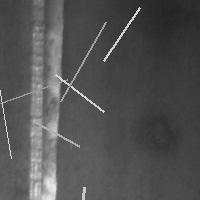scratches: (25, 1, 68, 198), (56, 17, 111, 106), (0, 75, 72, 116), (98, 3, 144, 66), (51, 70, 109, 117), (30, 117, 84, 151), (0, 63, 16, 163), (73, 182, 89, 200)
